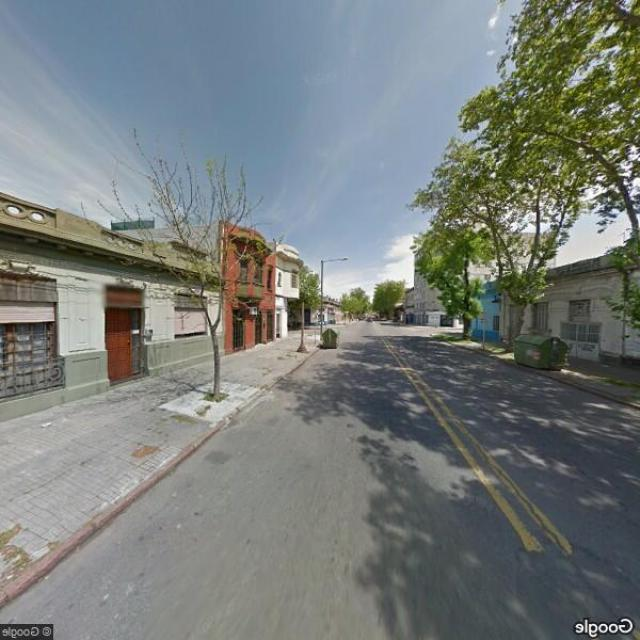garbage container: (501, 326, 578, 374), (316, 324, 346, 351)
